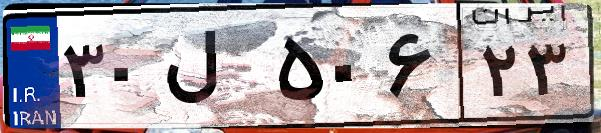0: (330, 28, 385, 110), (110, 28, 158, 98)
2: (475, 38, 525, 113)
3: (57, 26, 110, 100), (525, 38, 570, 115)
5: (270, 28, 330, 110)
6: (385, 28, 445, 110)
ل: (158, 20, 270, 120)
